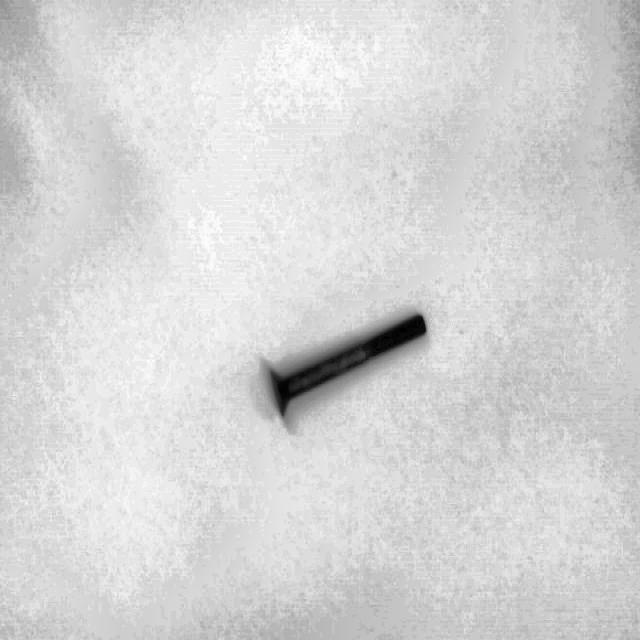Flat head socket screw: (265, 307, 430, 421)
